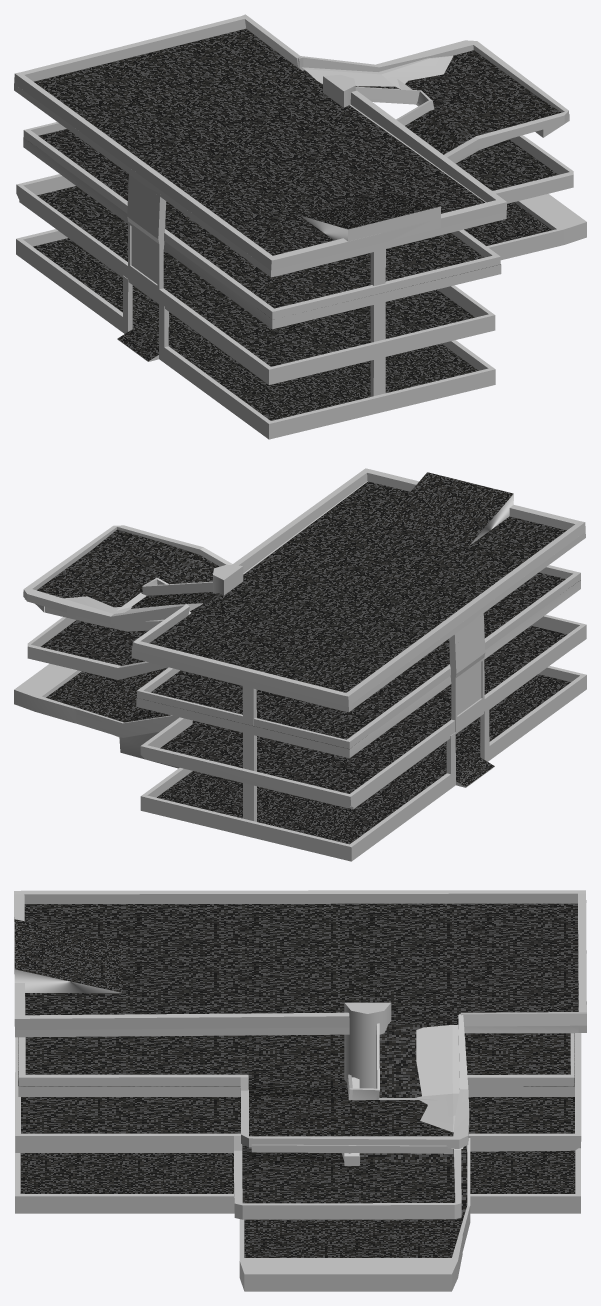
The model's file is BLOCKYGON_CAR GARAGE.fbx.
3 views of the same model, one above another, from view 1: azimuth 30°, elevation 25°; view 2: azimuth 150°, elevation 25°; view 3: azimuth 270°, elevation 25° (orthographic). The views are drawn at different scales.
Parts seen in each view (by area): view 1: BLOCKYGON_CAR_GARAGE; view 2: BLOCKYGON_CAR_GARAGE; view 3: BLOCKYGON_CAR_GARAGE.
Part boxes in pixels (x1,y1,x2,y2): BLOCKYGON_CAR_GARAGE: (14,14,586,439); BLOCKYGON_CAR_GARAGE: (14,468,586,861); BLOCKYGON_CAR_GARAGE: (14,890,586,1291).
Bounding box in the file's own units: 3228 × 1385 × 3321.
